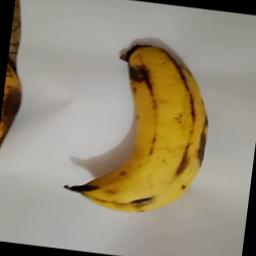Banana Unripe: (68, 39, 218, 221)
